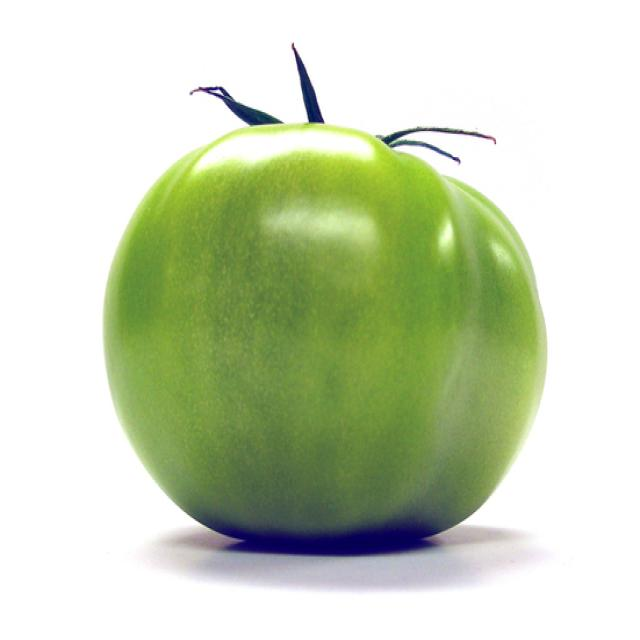yesil: (68, 89, 540, 564)
